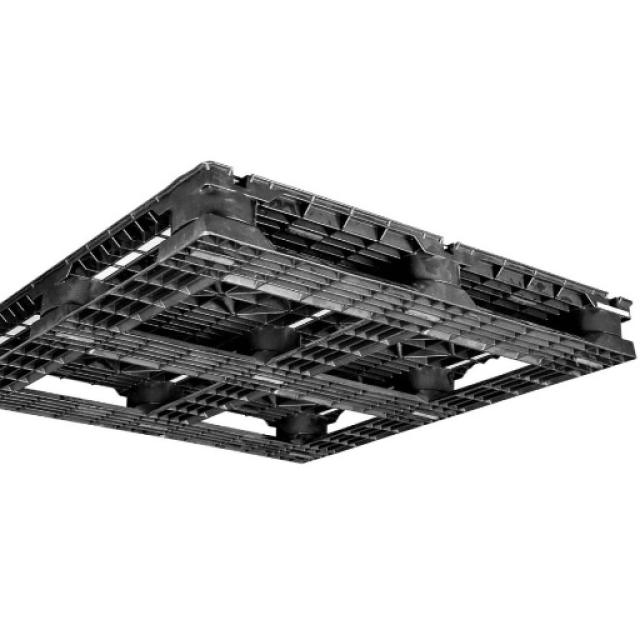non-igps: (0, 158, 640, 466)
